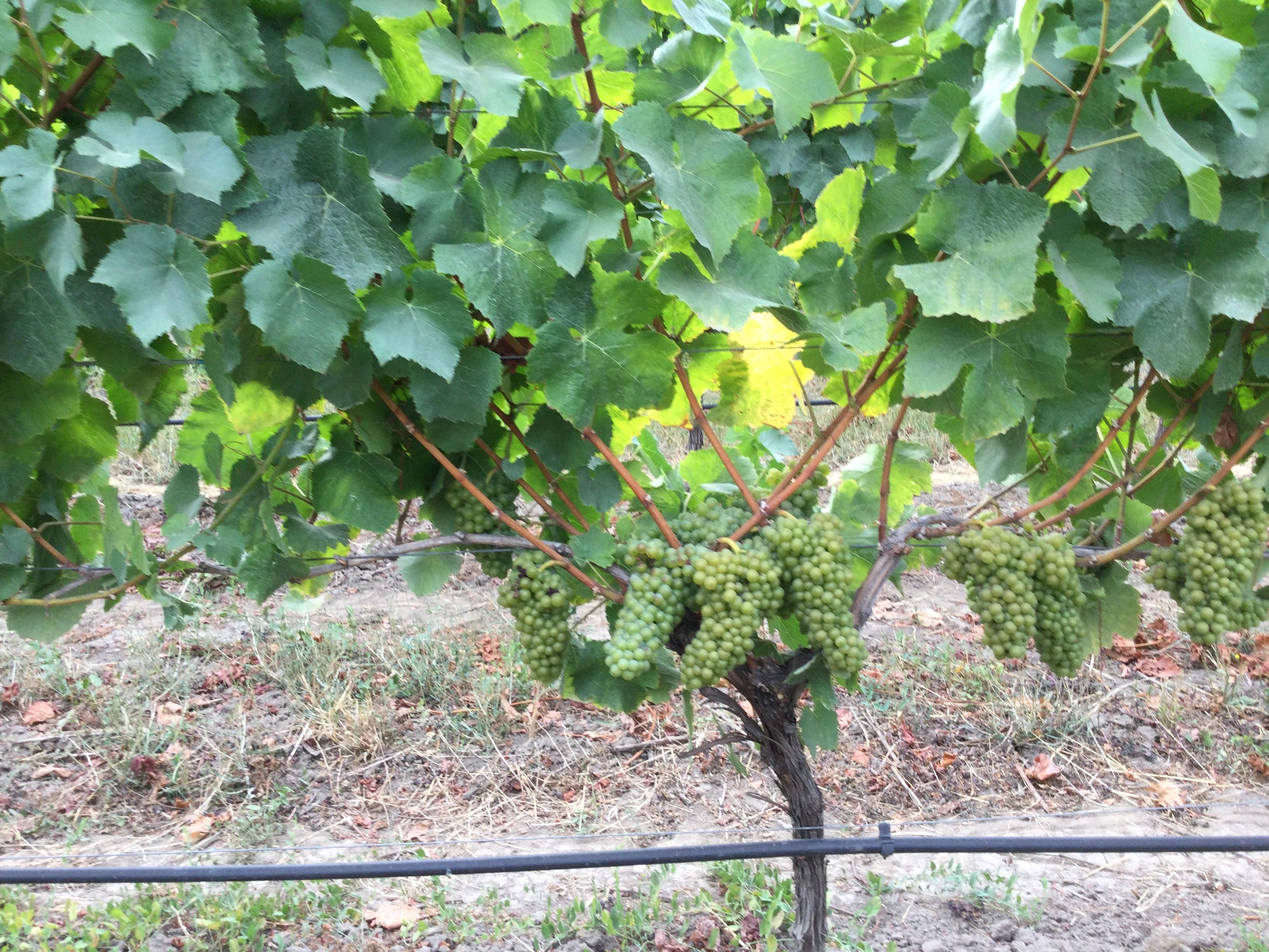leaf: (232, 126, 407, 287), (904, 296, 1069, 438), (1114, 224, 1268, 376), (528, 273, 678, 426), (433, 159, 561, 335), (614, 103, 759, 257), (893, 178, 1047, 322), (115, 0, 271, 114), (657, 233, 797, 331), (93, 224, 211, 340), (243, 255, 360, 371), (363, 269, 472, 380), (729, 27, 839, 133), (417, 28, 525, 116), (399, 155, 482, 258), (342, 115, 440, 200), (538, 180, 624, 275), (970, 19, 1027, 155), (286, 35, 385, 110), (311, 448, 398, 532), (785, 167, 865, 257), (3, 203, 84, 291), (410, 346, 502, 423), (1166, 0, 1241, 92), (1045, 234, 1122, 322), (40, 394, 116, 482), (61, 0, 174, 57), (908, 83, 973, 182), (809, 301, 888, 371), (0, 129, 57, 220), (397, 550, 461, 596), (570, 526, 615, 565), (878, 180, 888, 186), (405, 202, 410, 203), (918, 199, 919, 203), (909, 215, 910, 217), (874, 188, 875, 190), (914, 209, 914, 212), (870, 192, 870, 194)
